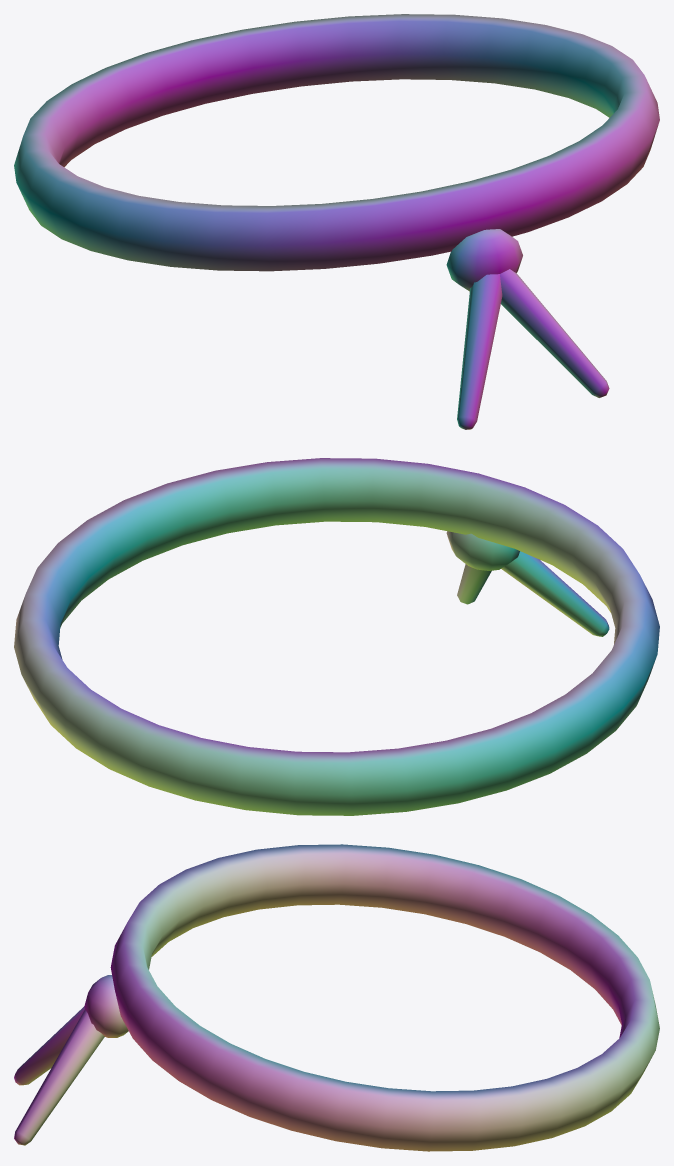
The model's file is acc_headband.glb.
3 renders of one model, top to bottom at view 1: azimuth 30°, elevation 25°; view 2: azimuth 150°, elevation 25°; view 3: azimuth 270°, elevation 25°, orthographic. The views are drawn at different scales.
Parts seen in each view (by area): view 1: headband; view 2: headband; view 3: headband.
Boxes of the visible parts, x1,y1,x2,y2 form: headband: [14, 14, 659, 429]; headband: [14, 458, 659, 815]; headband: [14, 844, 659, 1151].
Size of the model in its own units: 0.26 by 0.0808 by 0.2747.
